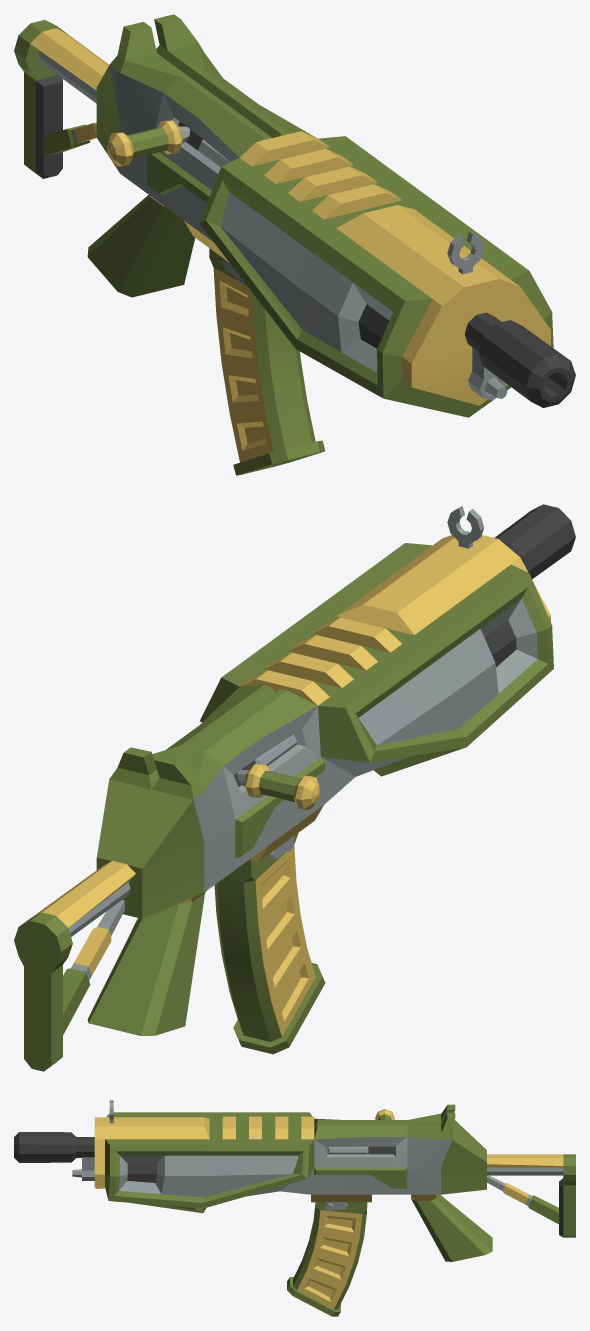
The model's file is Gun-6.fbx.
3 views of the same model, one above another, from view 1: azimuth 30°, elevation 25°; view 2: azimuth 150°, elevation 25°; view 3: azimuth 270°, elevation 25° (orthographic). The views are drawn at different scales.
Parts seen in each view (by area): view 1: Gun_6; view 2: Gun_6; view 3: Gun_6.
Part boxes in pixels (x1,y1,x2,y2): Gun_6: (14,14,575,475); Gun_6: (14,504,575,1071); Gun_6: (14,1100,575,1316).
Size of the model in its own units: 70.43 by 138 by 333.
